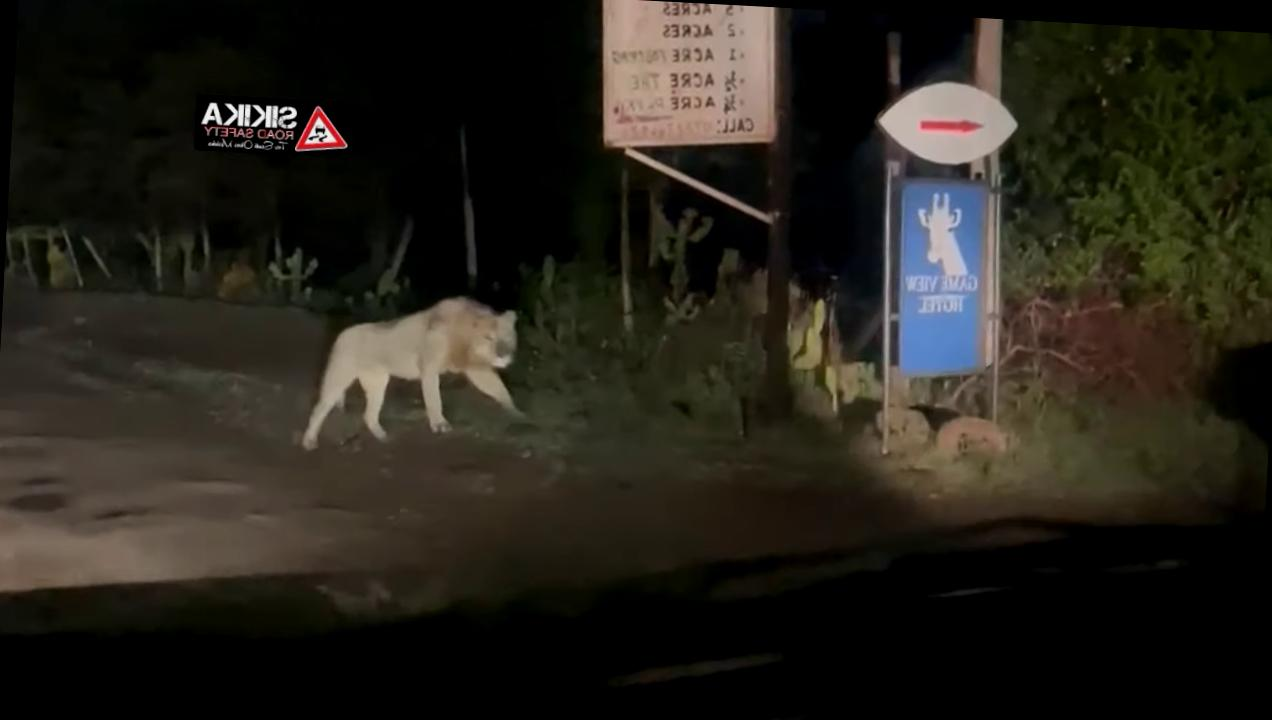lions: (285, 266, 540, 479)
